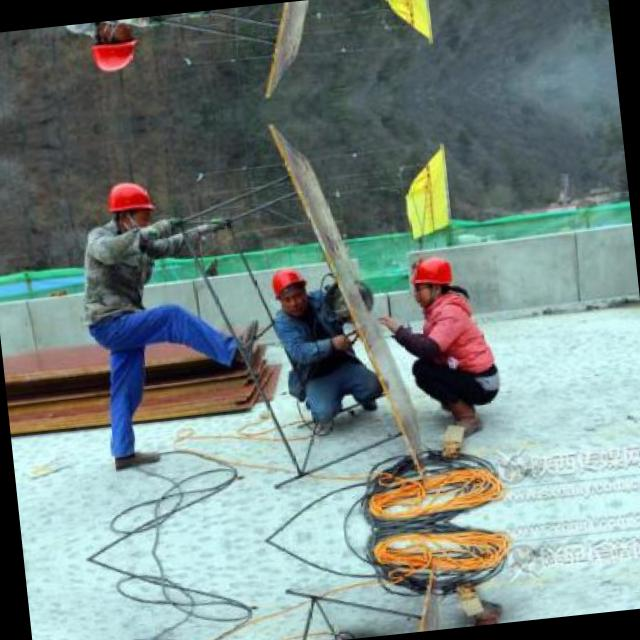helmet: (404, 248, 463, 316), (81, 18, 142, 78), (99, 176, 158, 235), (268, 265, 310, 313)
